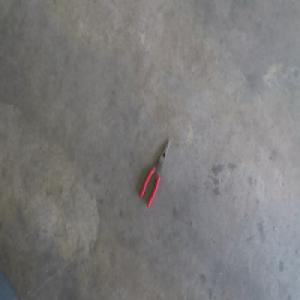Pliers: (139, 137, 171, 206)
